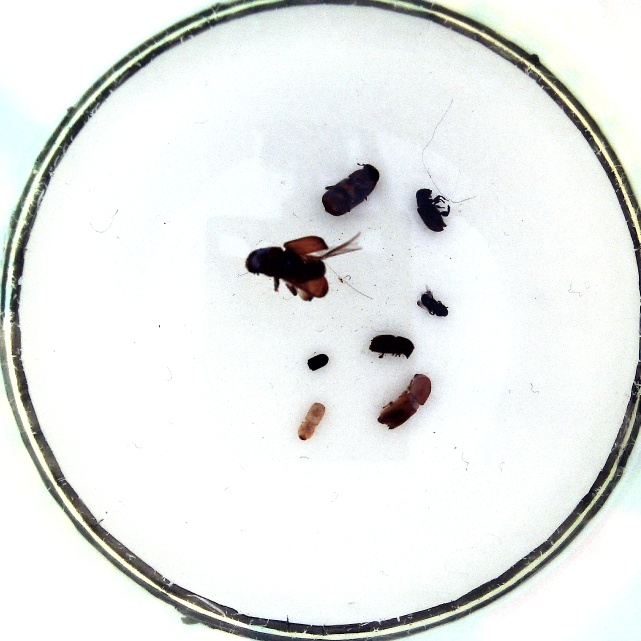acuminatus: (296, 399, 327, 443)
armandi: (411, 185, 450, 235)
boerner: (374, 371, 435, 432)
coleoptera: (412, 285, 451, 319), (305, 350, 331, 374)
leconte: (241, 232, 364, 304), (318, 159, 382, 219)
linnaeus: (368, 330, 416, 361)
